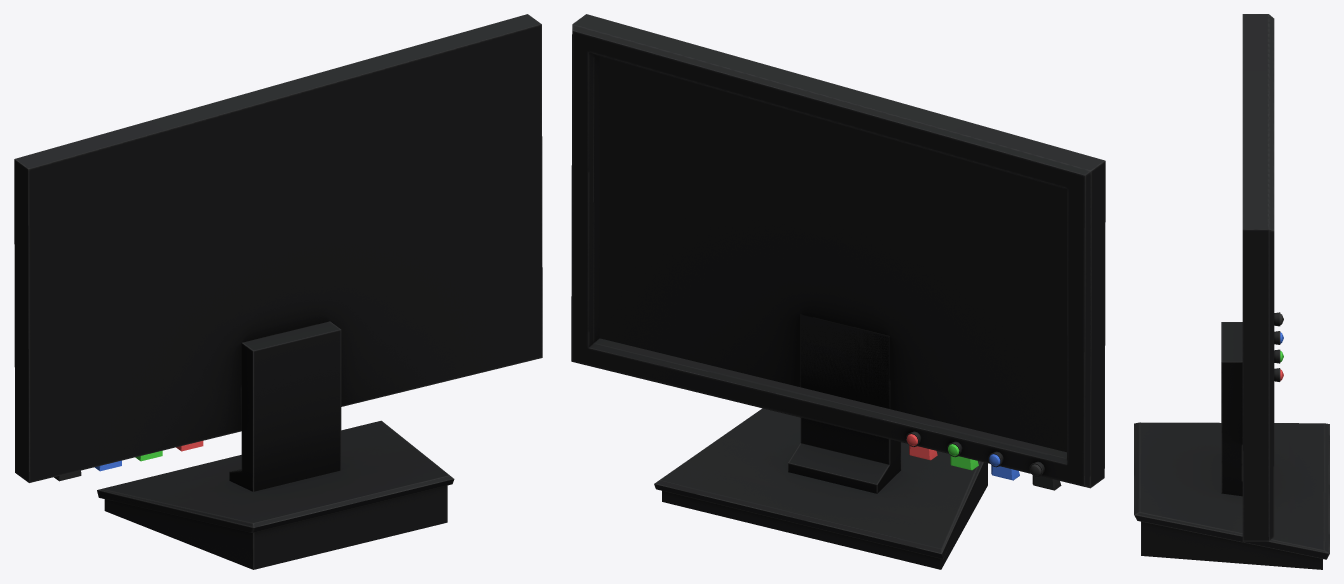
File: SM_Monitor.fbx
The picture shows the model from 3 angles, left to right: view 1: azimuth 30°, elevation 25°; view 2: azimuth 150°, elevation 25°; view 3: azimuth 270°, elevation 25°; orthographic projection. The views are drawn at different scales.
Parts seen in each view (by area): view 1: SM_Monitor_Base; view 2: SM_Monitor_Base; view 3: SM_Monitor_Base.
Boxes of the visible parts, x1,y1,x2,y2 form: SM_Monitor_Base: [14, 14, 542, 569]; SM_Monitor_Base: [571, 14, 1105, 569]; SM_Monitor_Base: [1134, 14, 1329, 569].
Bounding box in the file's own units: 77.49 × 60.78 × 27.36.
1 material, 1 textured.
